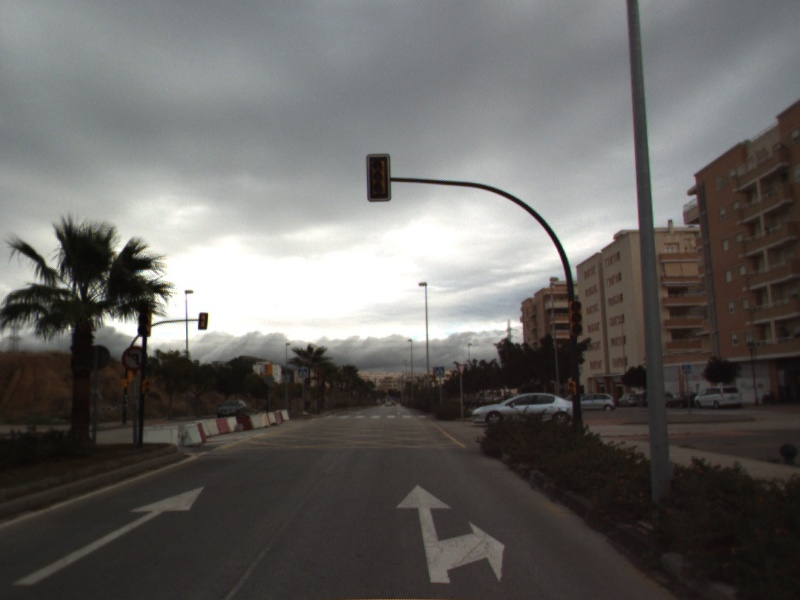STRAIGHT: (10, 485, 206, 587)
STRAIGHT_RIGHT: (394, 482, 507, 585)
